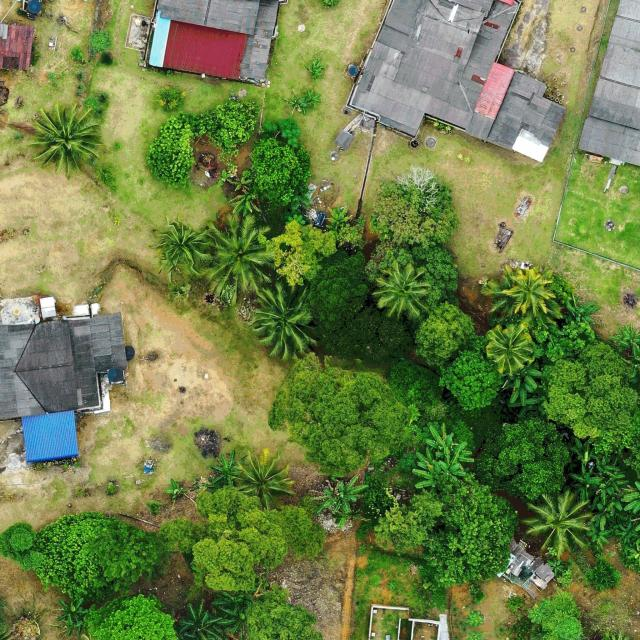Tree: (266, 364, 416, 476), (36, 510, 162, 604), (544, 341, 640, 456), (196, 484, 325, 568), (422, 473, 516, 588), (474, 418, 572, 500), (194, 212, 274, 304), (369, 165, 459, 246), (240, 280, 317, 362), (366, 238, 460, 304), (28, 99, 104, 180), (257, 221, 338, 286), (521, 487, 592, 558), (374, 488, 444, 556), (480, 263, 559, 321), (147, 113, 206, 189), (84, 593, 178, 640), (251, 137, 312, 208), (413, 300, 476, 368), (242, 588, 324, 640), (203, 98, 260, 170), (438, 349, 502, 412), (371, 258, 434, 322), (191, 534, 258, 594), (232, 448, 295, 509), (151, 215, 213, 273), (526, 589, 586, 640), (486, 324, 532, 374), (0, 522, 43, 572), (178, 599, 225, 640), (322, 474, 369, 514), (157, 516, 206, 554), (210, 592, 252, 636), (50, 598, 89, 638), (503, 366, 542, 406), (438, 442, 475, 480), (208, 450, 244, 488), (412, 446, 443, 490), (596, 465, 629, 504), (559, 294, 601, 324), (608, 320, 640, 358), (589, 495, 623, 530), (425, 423, 459, 458), (568, 466, 602, 497), (229, 188, 262, 216), (584, 522, 612, 550), (569, 438, 599, 464), (324, 205, 352, 230), (620, 481, 640, 515), (302, 56, 326, 82), (614, 523, 640, 545), (284, 94, 308, 114), (304, 88, 323, 109), (226, 178, 252, 192)
